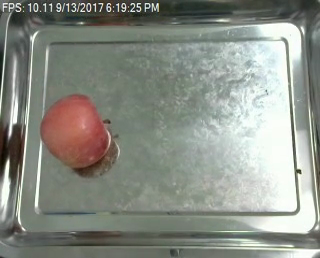Apple: (37, 93, 110, 171)
